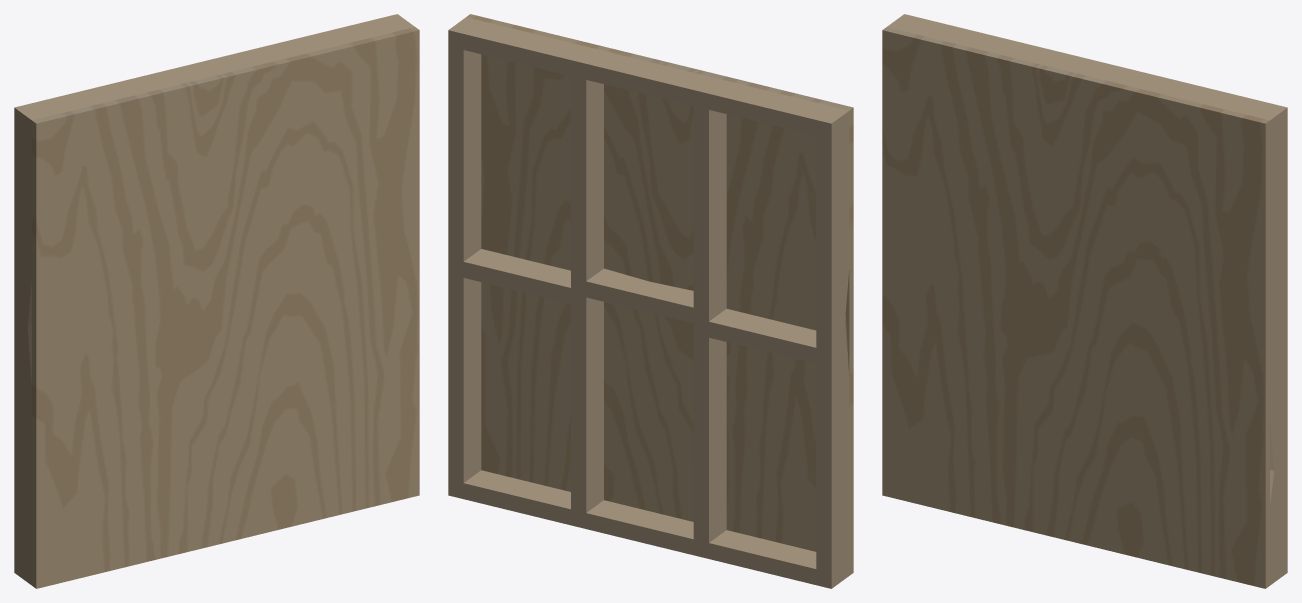
File: SM_Bld_House_Wall_02.fbx
The picture shows the model from 3 angles, left to right: view 1: azimuth 30°, elevation 25°; view 2: azimuth 150°, elevation 25°; view 3: azimuth 330°, elevation 25°; orthographic projection.
Parts seen in each view (by area): view 1: SM_Bld_House_Wall_02; view 2: SM_Bld_House_Wall_02; view 3: SM_Bld_House_Wall_02.
Part boxes in pixels (x1=…): SM_Bld_House_Wall_02: x1=14, y1=14, x2=419, y2=588; SM_Bld_House_Wall_02: x1=448, y1=14, x2=853, y2=588; SM_Bld_House_Wall_02: x1=882, y1=14, x2=1287, y2=588.
Bounding box in the file's own units: 250 × 290 × 25.
